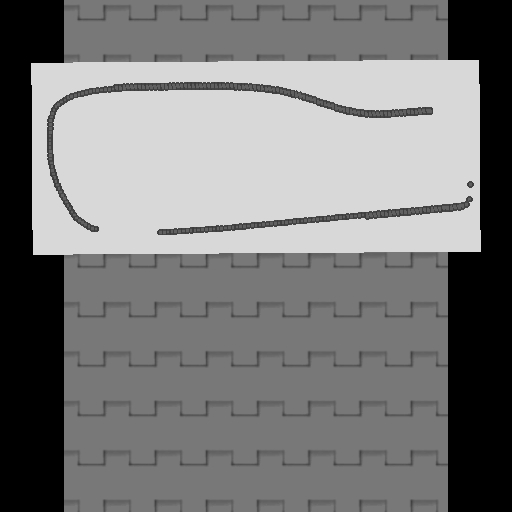Defect: (94, 220, 157, 241)
